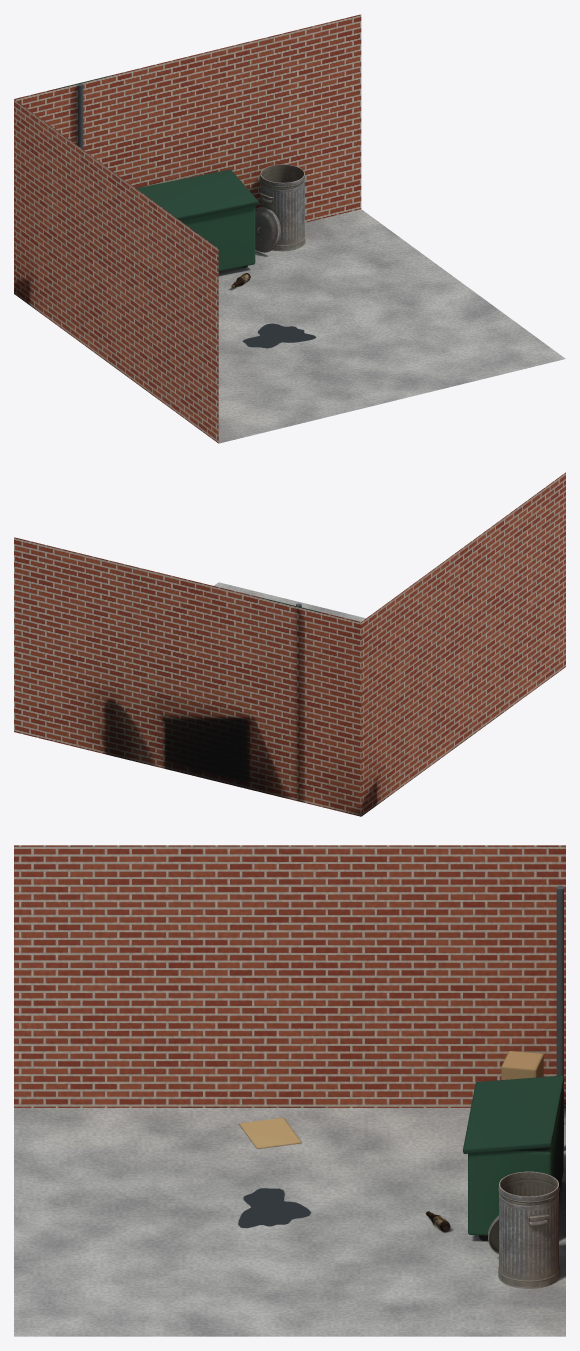
File: escenario_xilazina.glb
3 views of the same model, one above another, from view 1: azimuth 30°, elevation 25°; view 2: azimuth 150°, elevation 25°; view 3: azimuth 270°, elevation 25° (orthographic). The views are drawn at different scales.
Parts seen in each view (by area): view 1: Pared_fondo, Piso, Contenedor, Contenedor_tapa, Charco; view 2: Pared_fondo, Piso; view 3: Pared_fondo, Piso, Contenedor, Contenedor_tapa, Caja_1, Charco, Tubo.
Part boxes in pixels (<box>): Pared_fondo: <box>14,14,361,443</box>; Piso: <box>218,209,565,443</box>; Contenedor: <box>180,164,305,271</box>; Contenedor_tapa: <box>136,169,258,220</box>; Charco: <box>243,323,315,348</box>; Pared_fondo: <box>14,472,565,816</box>; Piso: <box>214,582,365,621</box>; Pared_fondo: <box>14,845,565,1107</box>; Piso: <box>14,1108,565,1336</box>; Contenedor: <box>468,1088,563,1288</box>; Contenedor_tapa: <box>463,1075,564,1153</box>; Caja_1: <box>239,1051,543,1148</box>; Charco: <box>238,1188,310,1227</box>; Tubo: <box>556,886,564,1150</box>.
Size of the model in its own units: 4.85 by 2.6 by 4.95.
10 materials, 9 textured.
